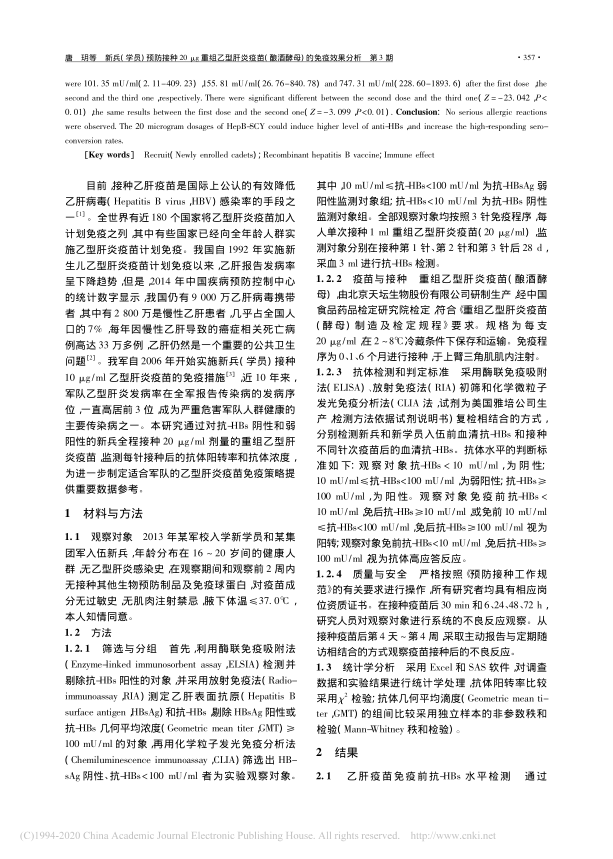Header: (64, 52, 396, 62), (517, 53, 540, 60)
Text: (65, 179, 299, 497), (316, 381, 546, 563), (61, 77, 551, 160), (63, 657, 299, 782), (317, 179, 551, 270), (316, 659, 551, 737), (64, 545, 297, 622), (316, 287, 548, 362), (317, 583, 550, 657)
Title: (314, 768, 511, 782), (316, 365, 452, 378), (64, 641, 159, 655), (317, 567, 408, 580), (317, 273, 407, 285), (65, 529, 133, 544), (66, 507, 146, 519), (317, 661, 394, 672), (65, 628, 112, 640), (316, 746, 361, 758)
